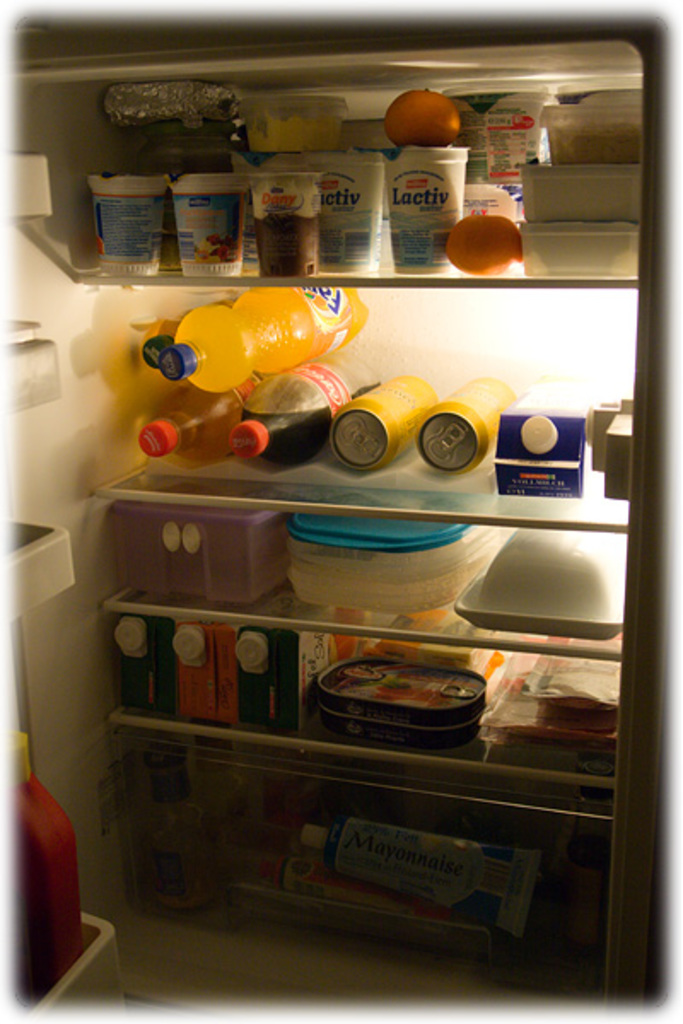Refrigerator: (0, 0, 681, 1017)
